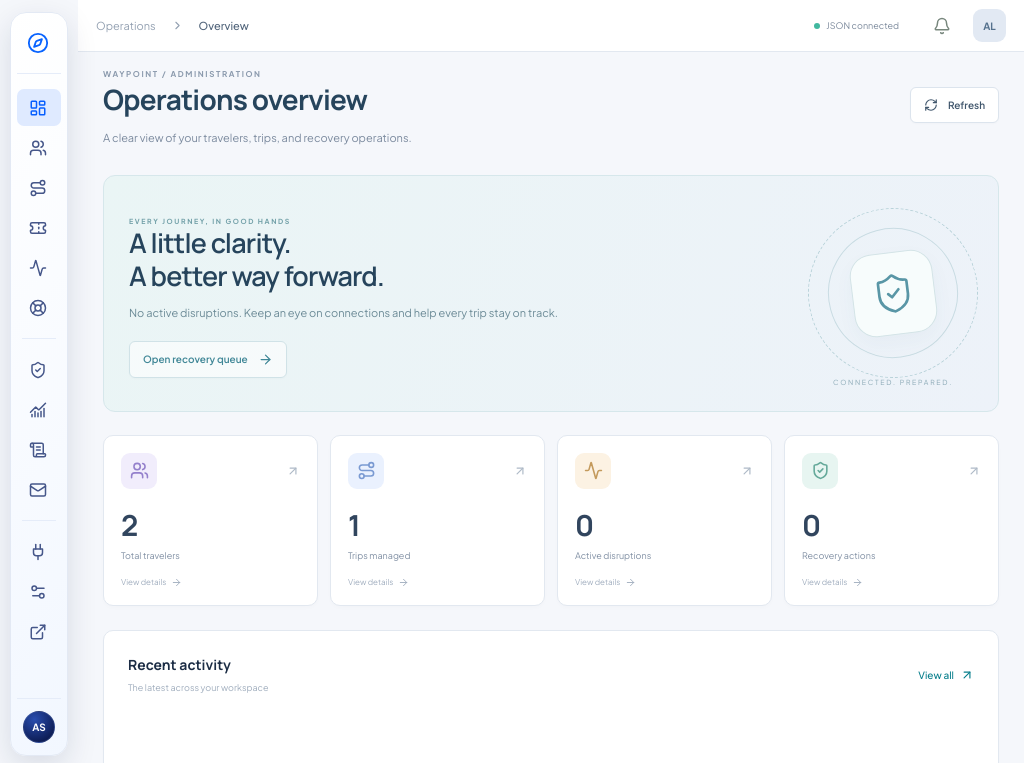
Scenario: platform components › admin console renders computed metrics and service status
The image size is (1024, 763).
expect the heading "Operations overview" is shown: met, box [103,80,412,119]
Click the link named "Integrations" at point(38, 552), box [29,542,47,560]
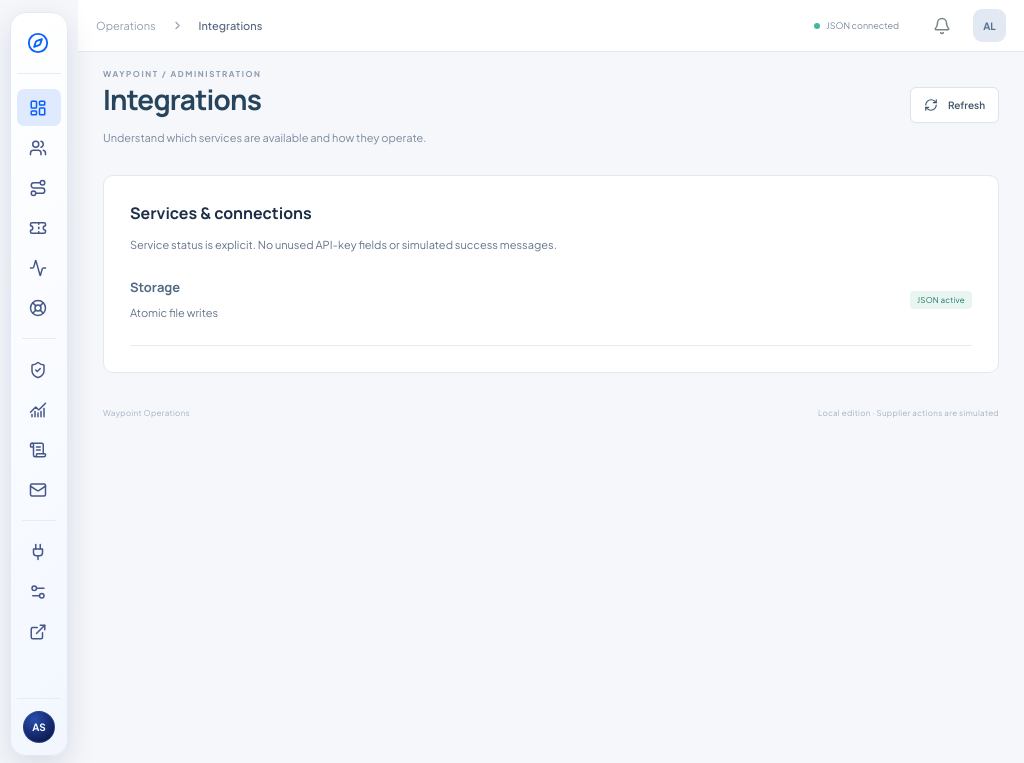
expect the text "JSON active" is shown: met, box [910,291,972,309]
